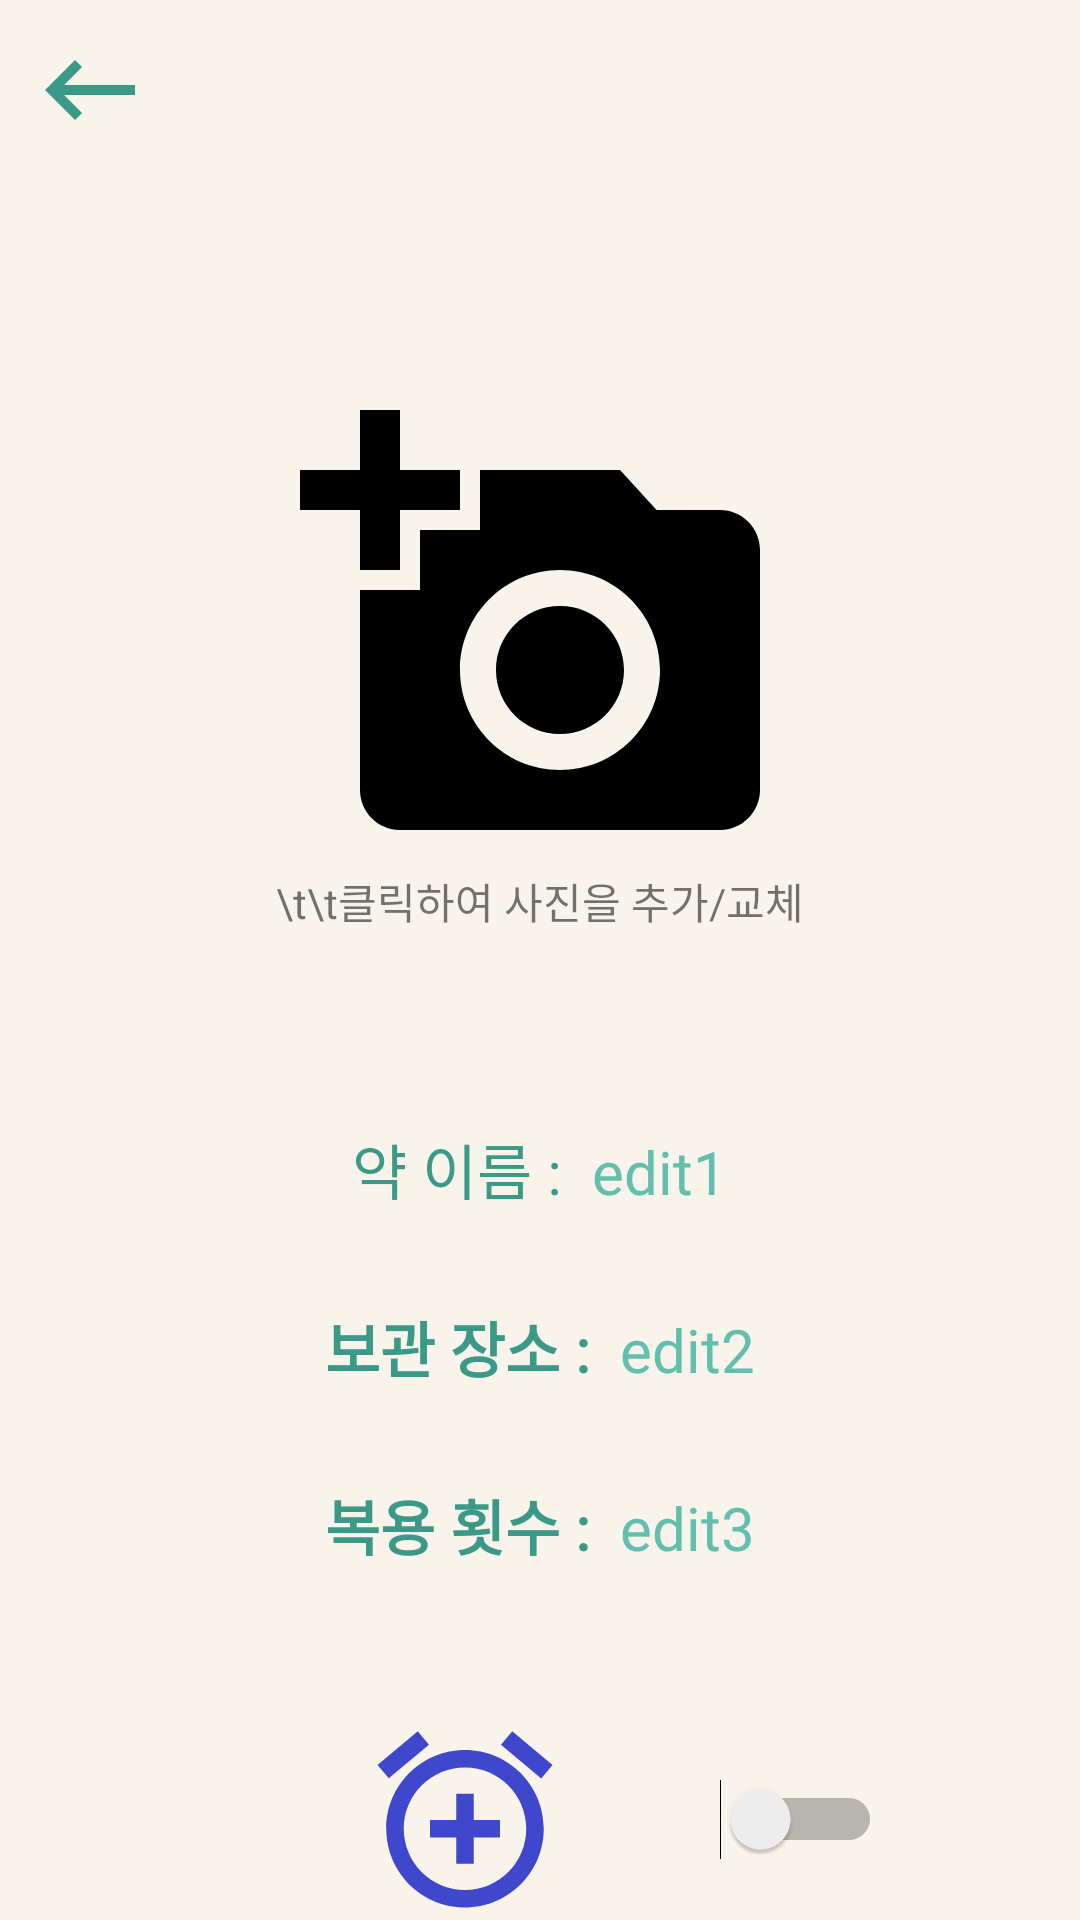

Icon bounding boxes for this 1080×1920 phone screenshot, format bbox=(x1, y1, x2, y2):
alarm setting: bbox=(377, 1731, 553, 1908)
